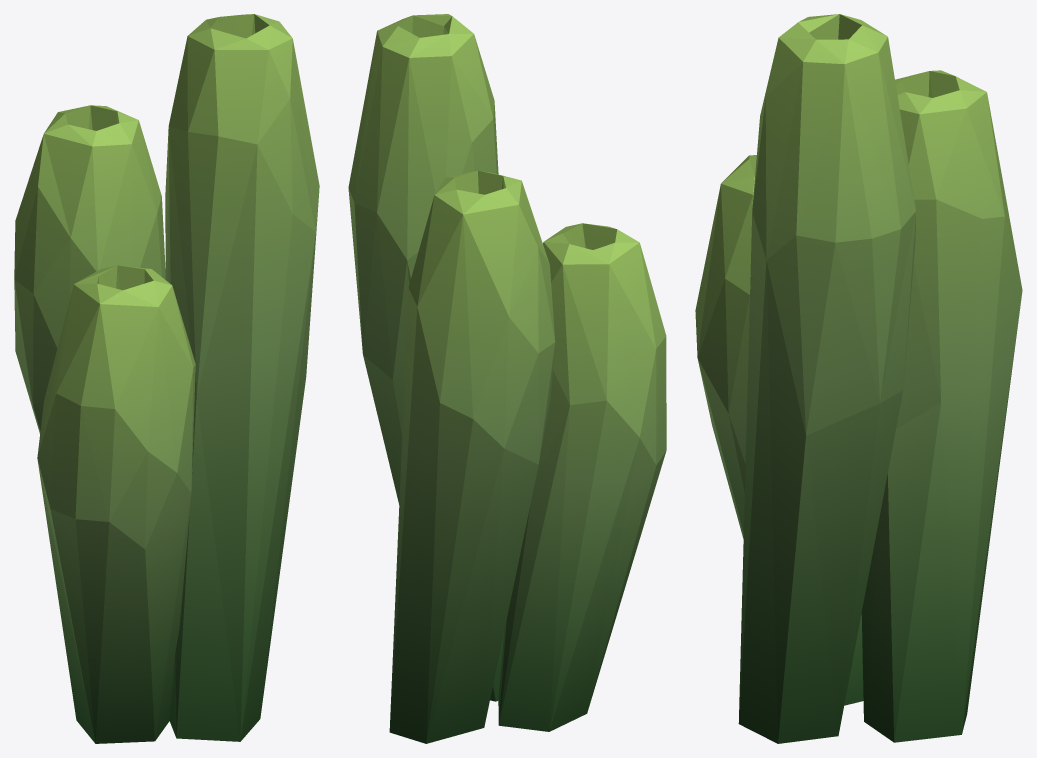
File: SM_Spongia_3.fbx
3 renders of one model, left to right at view 1: azimuth 30°, elevation 25°; view 2: azimuth 150°, elevation 25°; view 3: azimuth 270°, elevation 25°, orthographic. The views are drawn at different scales.
Parts seen in each view (by area): view 1: Spongia_3; view 2: Spongia_3; view 3: Spongia_3.
Part boxes in pixels (x1,y1,x2,y2): Spongia_3: (14,14,319,743); Spongia_3: (348,14,666,743); Spongia_3: (695,14,1022,743).
Size of the model in its own units: 59.41 by 136 by 55.93.
